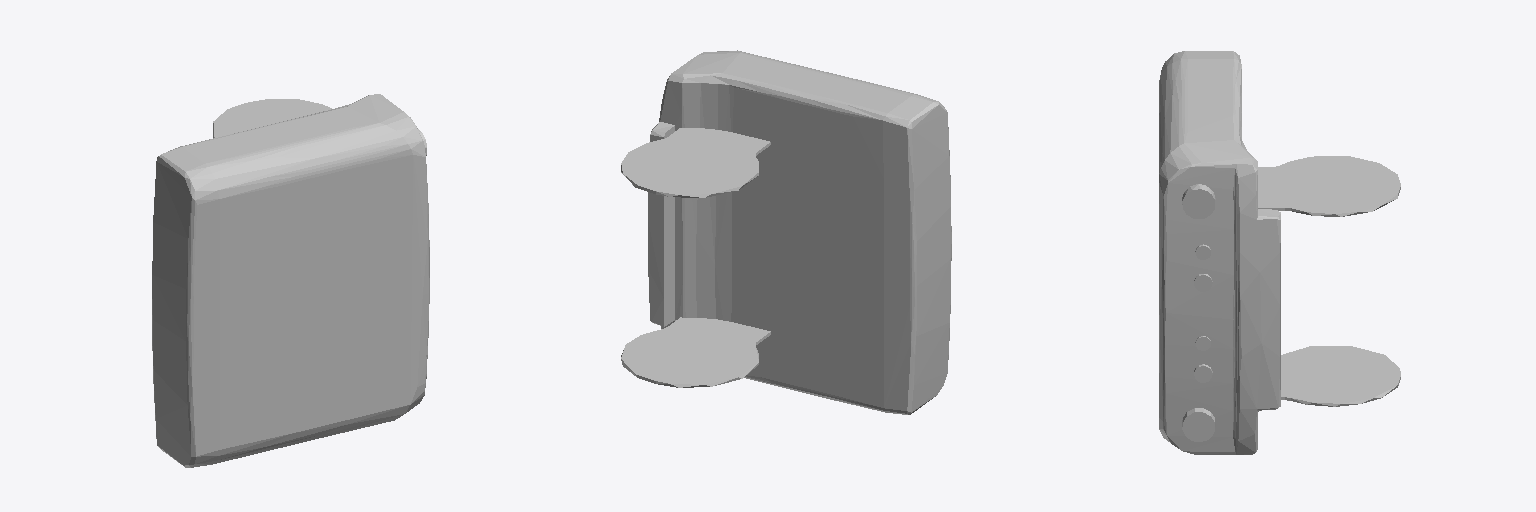
File: head_tilt.obj
The picture shows the model from 3 angles: view 1: azimuth 30°, elevation 25°; view 2: azimuth 150°, elevation 25°; view 3: azimuth 270°, elevation 25°; orthographic projection.
Parts seen in each view (by area): view 1: head_tilt_M_head_tilt_MShape; view 2: head_tilt_M_head_tilt_MShape; view 3: head_tilt_M_head_tilt_MShape.
Boxes of the visible parts, x1=… form: head_tilt_M_head_tilt_MShape: x1=152, y1=94, x2=429, y2=467; head_tilt_M_head_tilt_MShape: x1=621, y1=50, x2=951, y2=414; head_tilt_M_head_tilt_MShape: x1=1159, y1=51, x2=1400, y2=454.
Bounding box in the file's own units: 0.2614 × 0.2957 × 0.217.